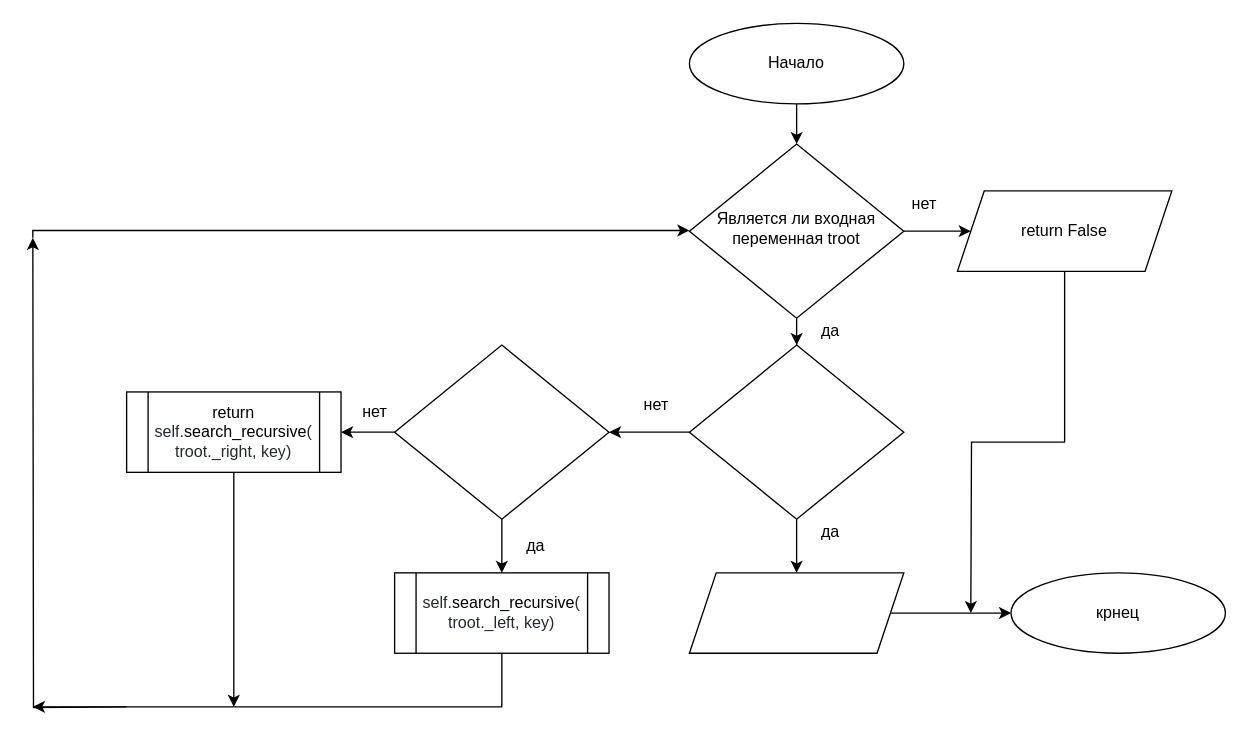
Image size: 1249x742. Some labels were removed from this diagram. Each missing label, with the centre of its shape:
return True: the point at 796,612
Ключь<Te: the point at 501,431
Равняется ли ключь с Te: the point at 796,431
